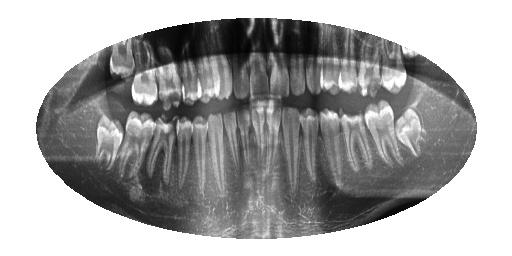i10healthy: (222, 103, 240, 188)
i11healthy: (205, 108, 228, 198)
i12healthy: (189, 111, 212, 203)
i13healthy: (174, 115, 197, 197)
i14decay: (143, 110, 180, 189)
i15healthy: (115, 105, 158, 186)
i16healthy: (90, 107, 125, 173)
i1healthy: (389, 101, 433, 161)
i2healthy: (362, 97, 408, 170)
i3chipped: (337, 93, 376, 174)
i4healthy: (318, 102, 345, 187)
i5healthy: (296, 97, 324, 192)
i6healthy: (276, 102, 304, 199)
i7healthy: (262, 100, 283, 190)
i8healthy: (247, 102, 268, 196)
i9healthy: (235, 103, 253, 181)
u10healthy: (227, 19, 254, 104)
u11healthy: (204, 21, 235, 102)
u12healthy: (187, 25, 222, 104)
u13healthy: (170, 27, 208, 109)
u14healthy: (151, 31, 190, 113)
u15healthy: (124, 39, 161, 112)
u16healthy: (110, 41, 139, 84)
u2healthy: (376, 37, 409, 99)
u3healthy: (355, 30, 386, 103)
u4healthy: (333, 25, 361, 101)
u5healthy: (317, 22, 345, 101)
u6healthy: (302, 20, 326, 99)
u7healthy: (286, 19, 309, 102)
u8healthy: (267, 19, 292, 103)
u9healthy: (244, 19, 272, 108)
